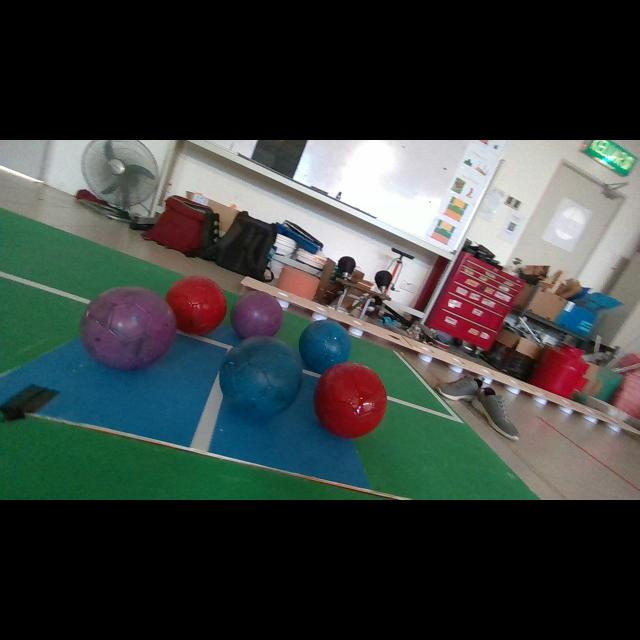B: (220, 336, 302, 419), (299, 320, 351, 374)
P: (80, 286, 176, 369), (231, 291, 282, 338)
R: (314, 362, 388, 438), (166, 276, 228, 334)
